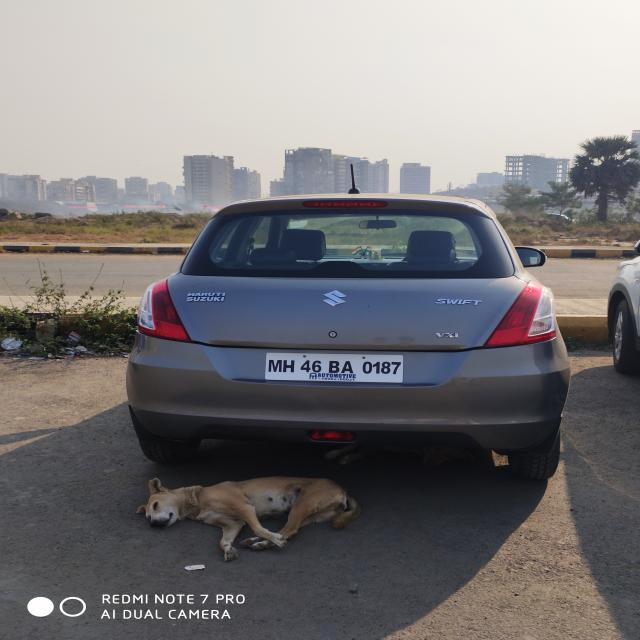Number-Plate: (266, 353, 404, 383)
